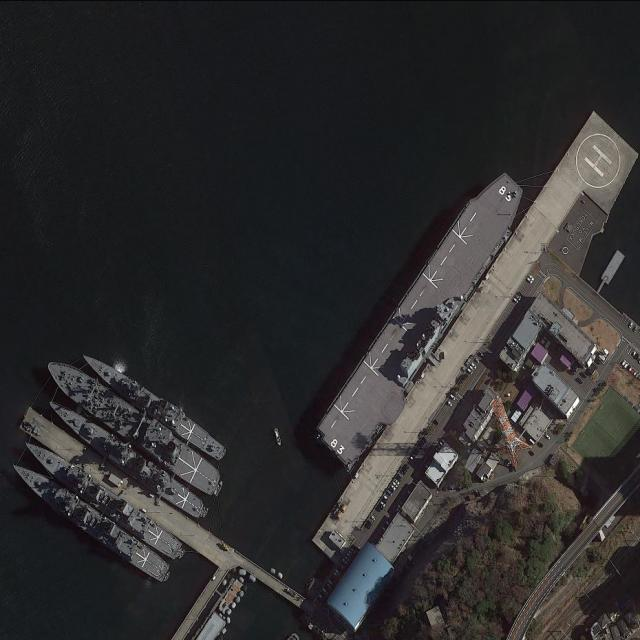Auxiliary Ships: (39, 352, 227, 497)
Destroyer: (306, 167, 537, 465), (14, 434, 192, 566), (3, 453, 175, 589), (78, 347, 225, 460)
Dock: (16, 407, 231, 564)
Other Warship: (42, 394, 211, 522)
